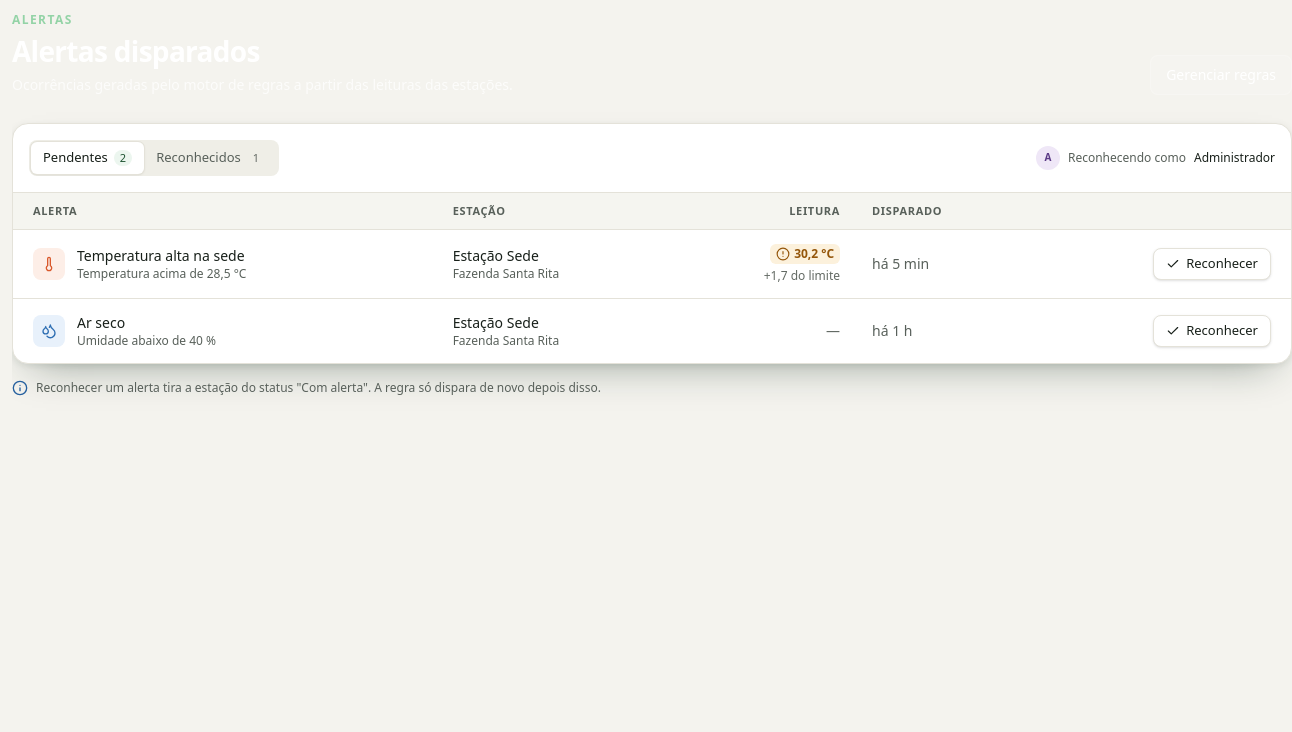
it: AlertsPage › reconhece um alerta como o usuário atual
The image size is (1292, 732).
Expected: the text "A Reconhecendo como Administrador" is shown, x1=1036 y1=146 x2=1275 y2=170
Click the button "Reconhecer" in the row of "Temperatura alta na sede" at {"x": 1212, "y": 264}, box x1=1153 y1=248 x2=1271 y2=280
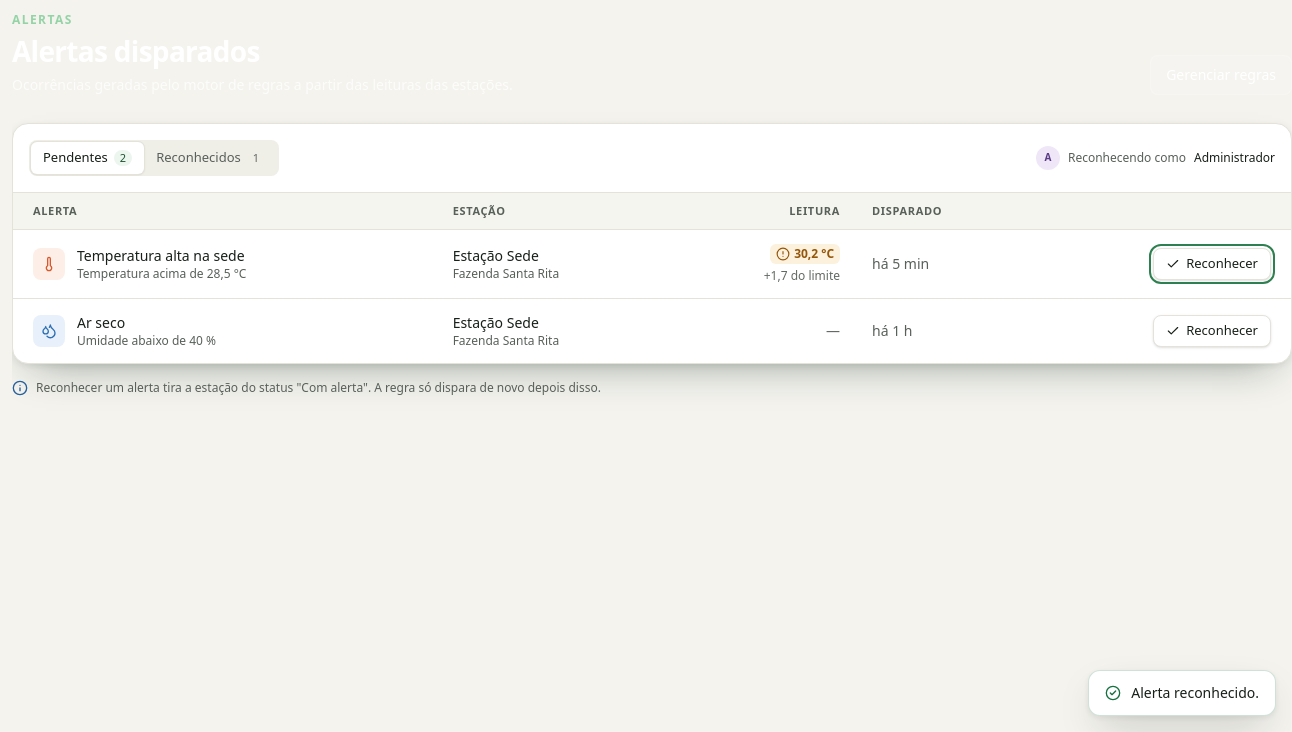
Expected: the text "Alerta reconhecido." is shown, x1=1088 y1=670 x2=1276 y2=716
